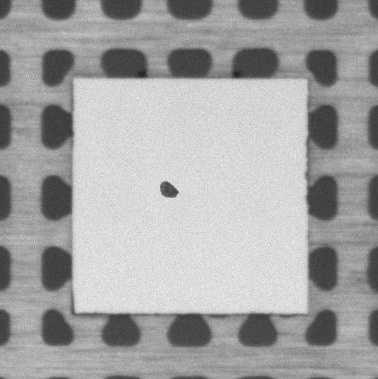DIE_INK: (158, 180, 180, 200)
